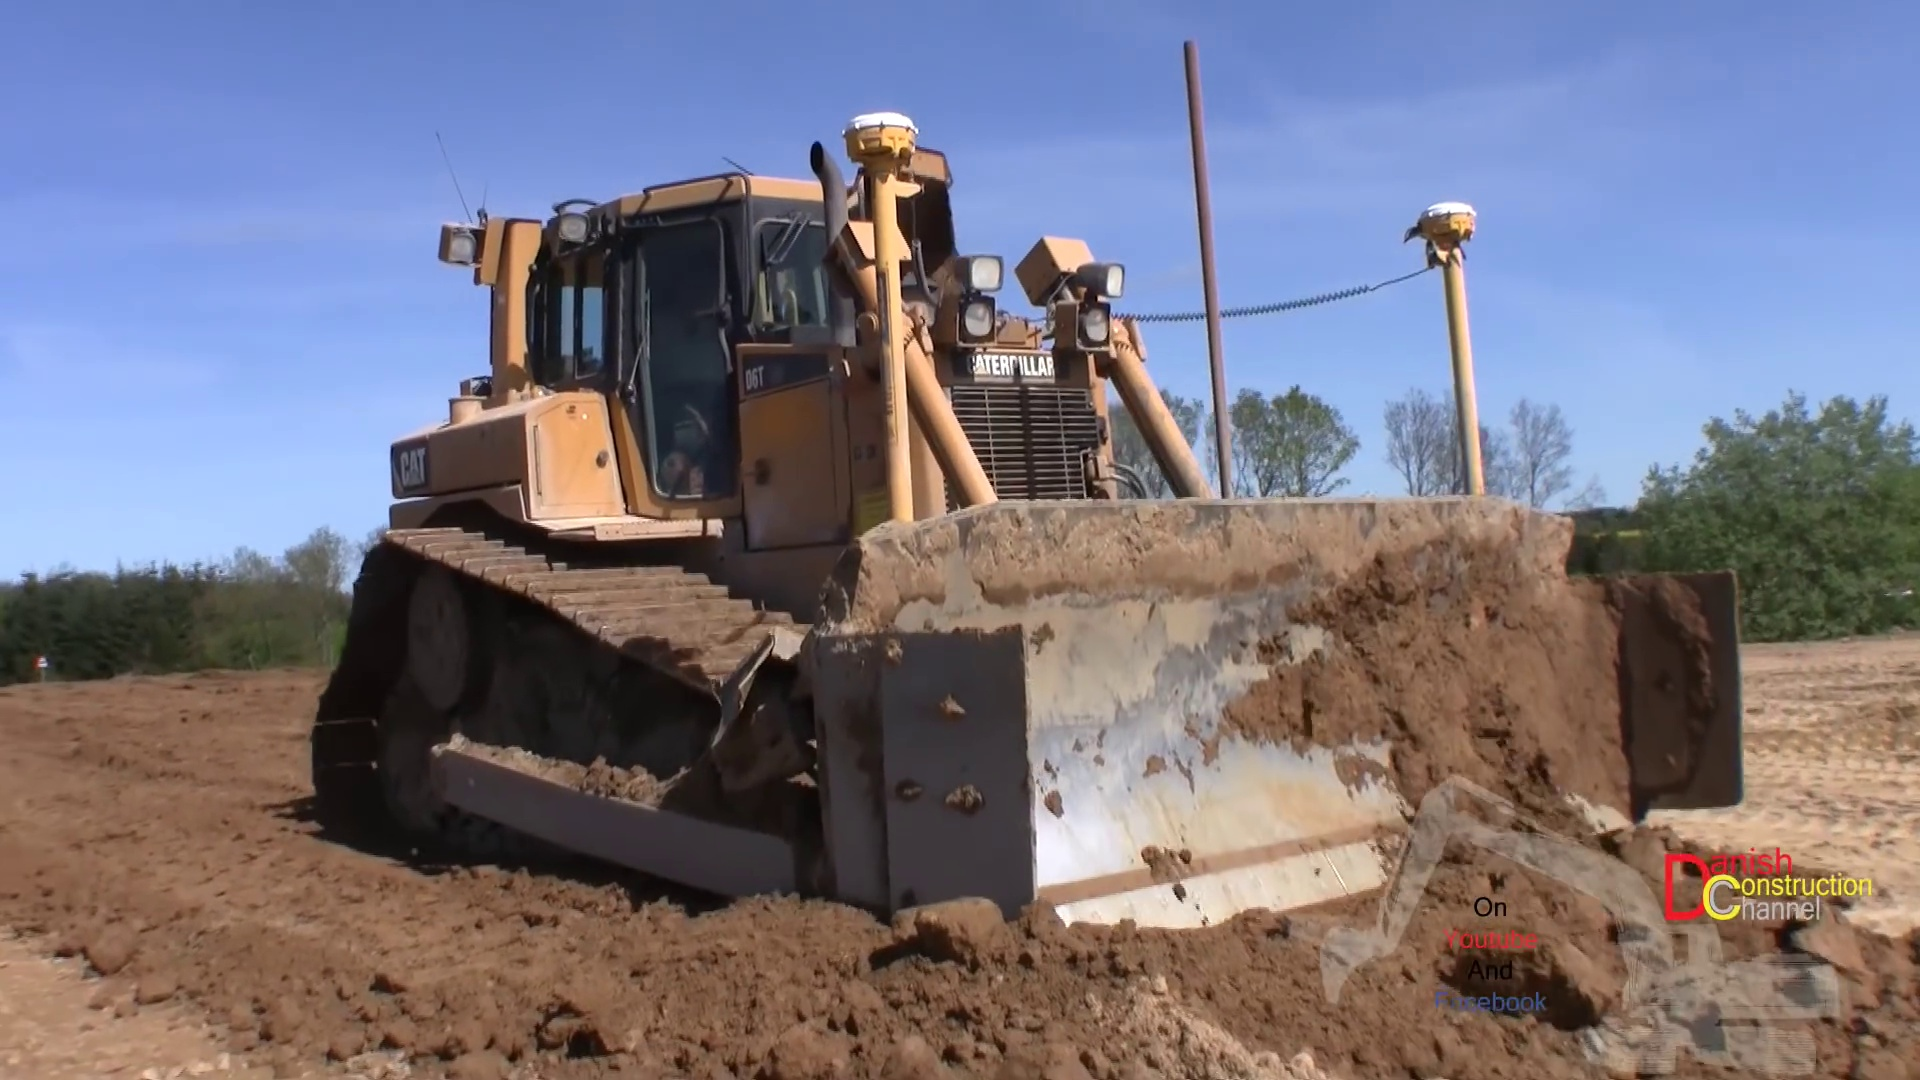bulldozer: (314, 109, 1755, 990)
